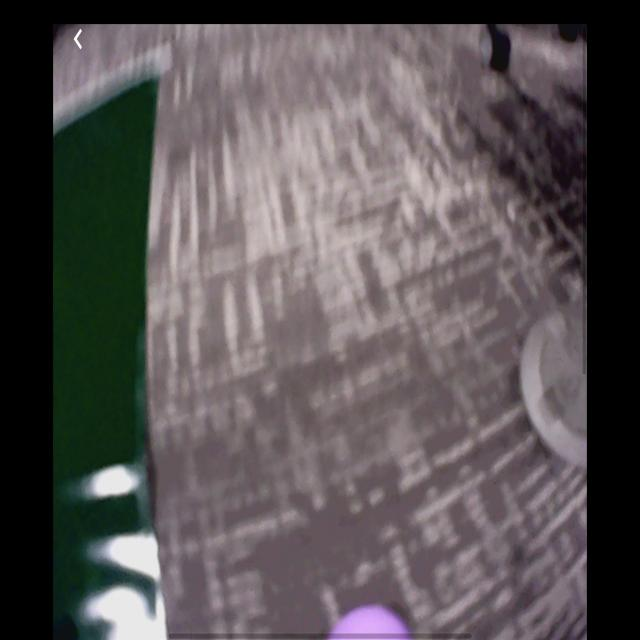ball: (328, 605, 410, 640)
